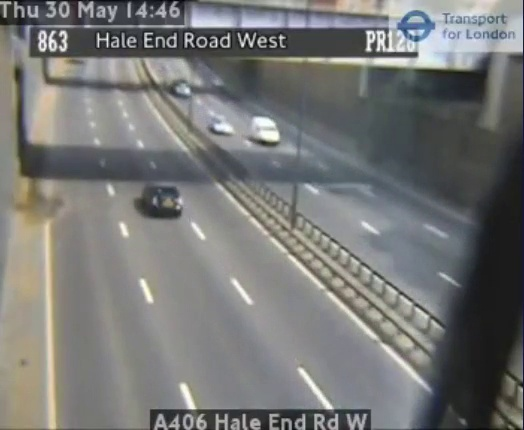car: (144, 187, 184, 216)
